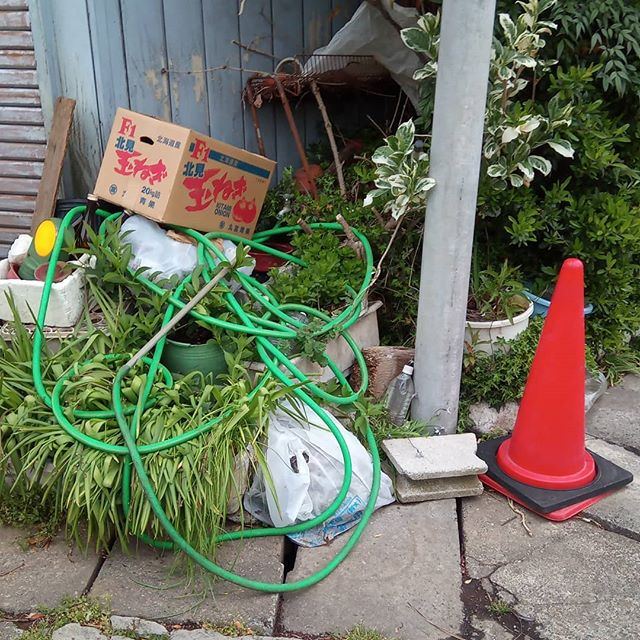traffic cone: (513, 250, 629, 539)
trash: (47, 107, 394, 568)
vegetation: (479, 1, 640, 376)
